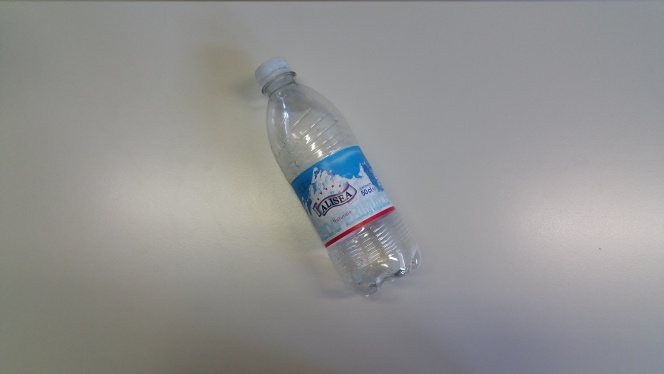bottle: (247, 52, 421, 300)
